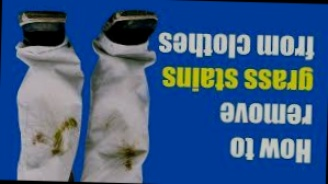earth: (119, 148, 137, 170), (54, 130, 65, 156), (33, 134, 46, 146), (62, 119, 77, 129)
